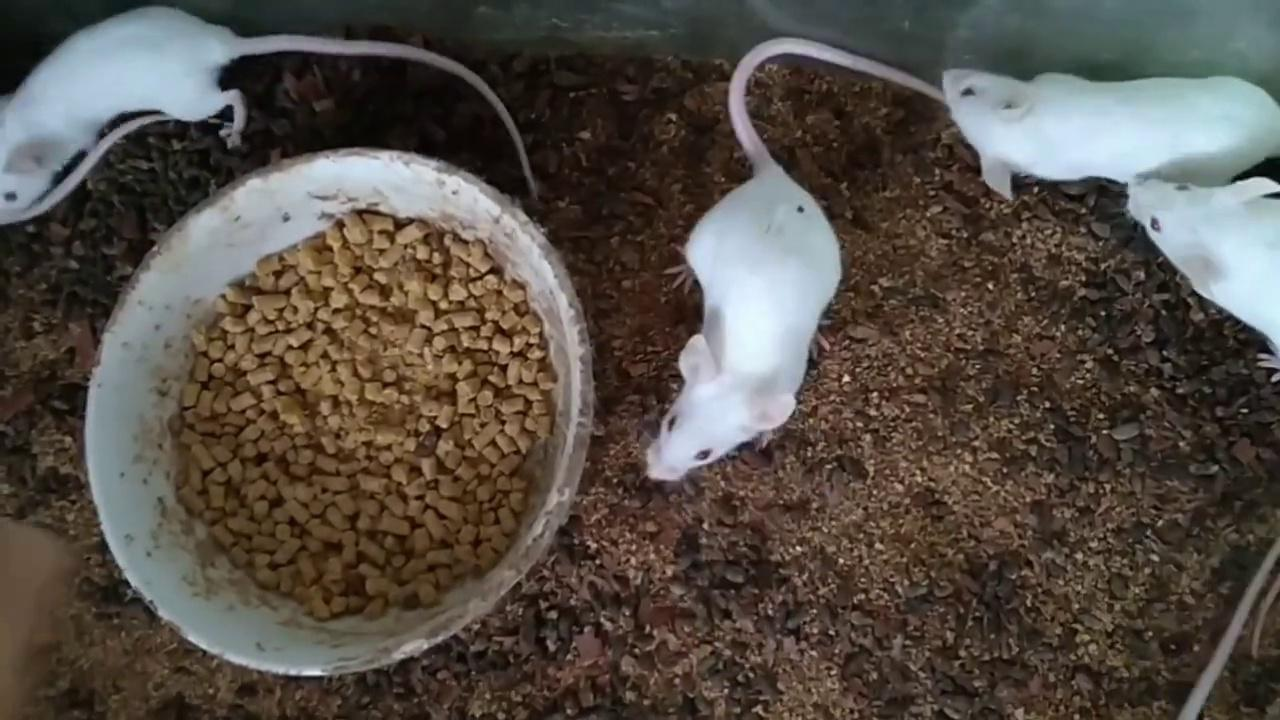rat: (645, 168, 842, 481), (0, 2, 240, 211), (941, 66, 1280, 183), (1129, 178, 1280, 382)
